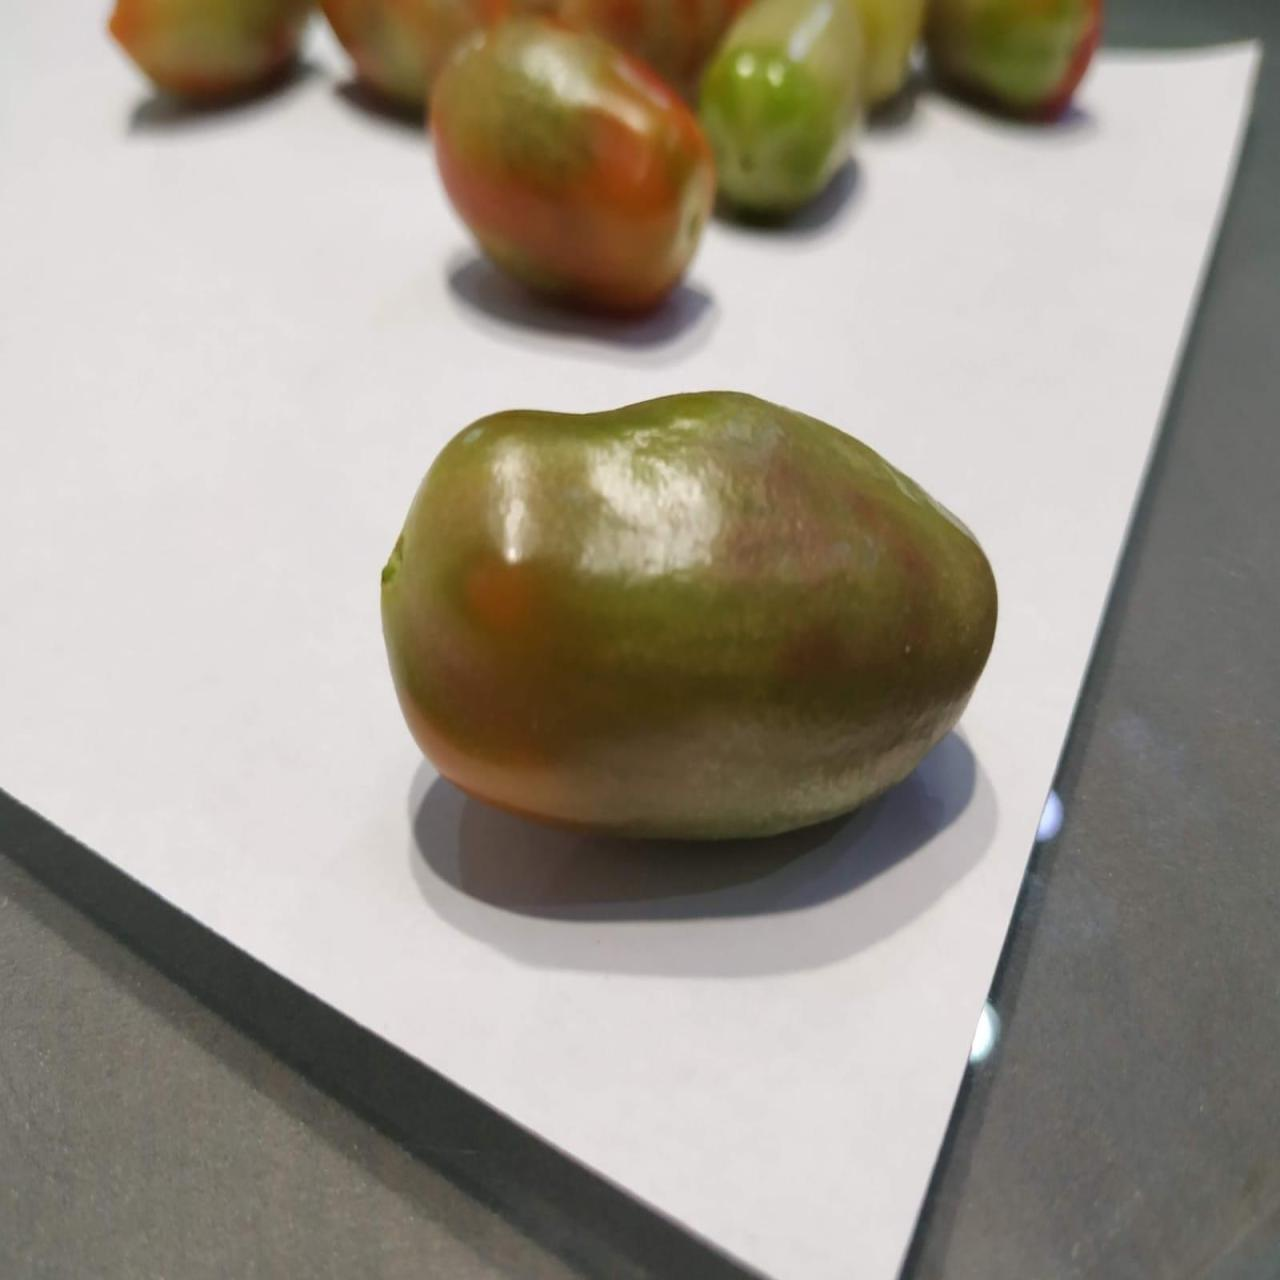T_F_R: (382, 390, 998, 839)
